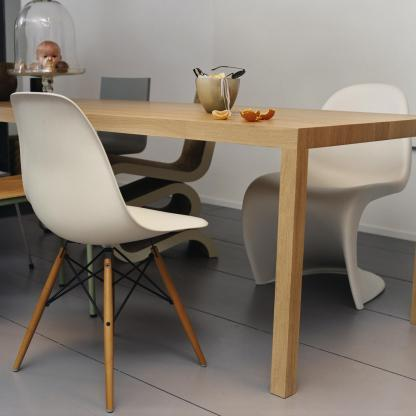chair: (0, 83, 217, 413), (239, 64, 416, 310), (90, 79, 224, 266), (65, 72, 152, 156)
table: (0, 97, 416, 399), (0, 170, 32, 274)
